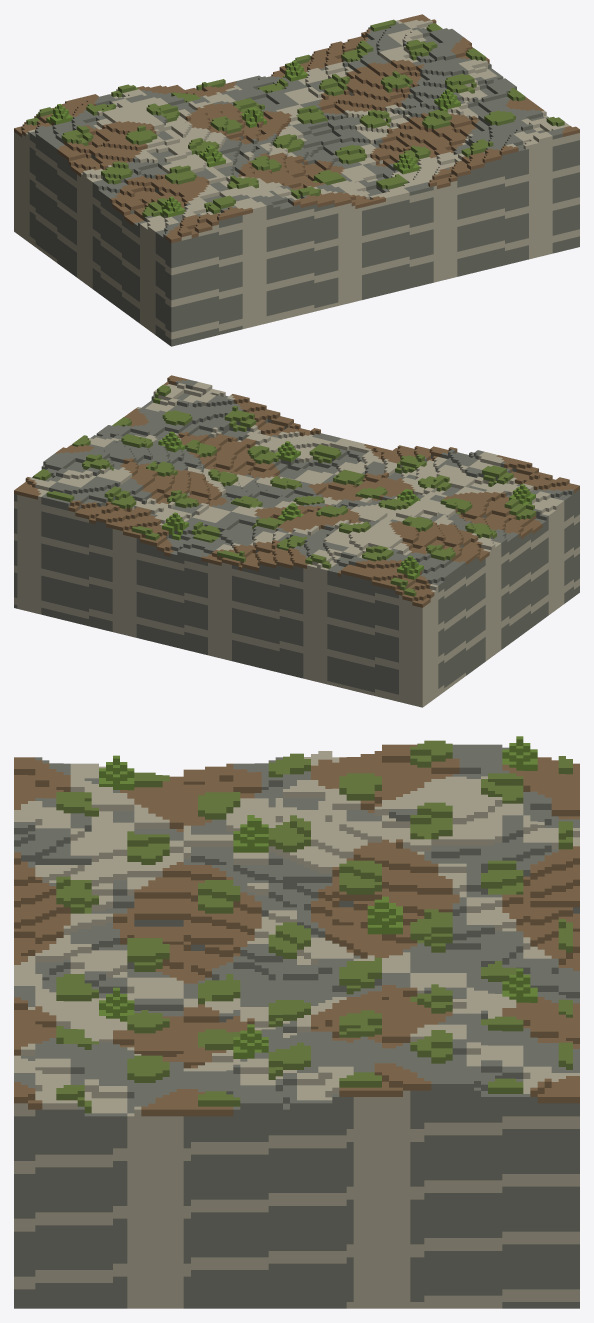
Rendered from ENV-001.glb.
3 views of the same model, one above another, from view 1: azimuth 30°, elevation 25°; view 2: azimuth 150°, elevation 25°; view 3: azimuth 270°, elevation 25° (orthographic). The views are drawn at different scales.
Visible parts, largest first — view 1: 权威连续岩土表面母版; view 2: 权威连续岩土表面母版; view 3: 权威连续岩土表面母版.
Boxes of the visible parts, x1=… form: 权威连续岩土表面母版: x1=14, y1=14, x2=579, y2=346; 权威连续岩土表面母版: x1=14, y1=375, x2=579, y2=707; 权威连续岩土表面母版: x1=14, y1=736, x2=579, y2=1308.
Bounding box in the file's own units: 24 × 7.4 × 16.
5 materials, 5 textured.
